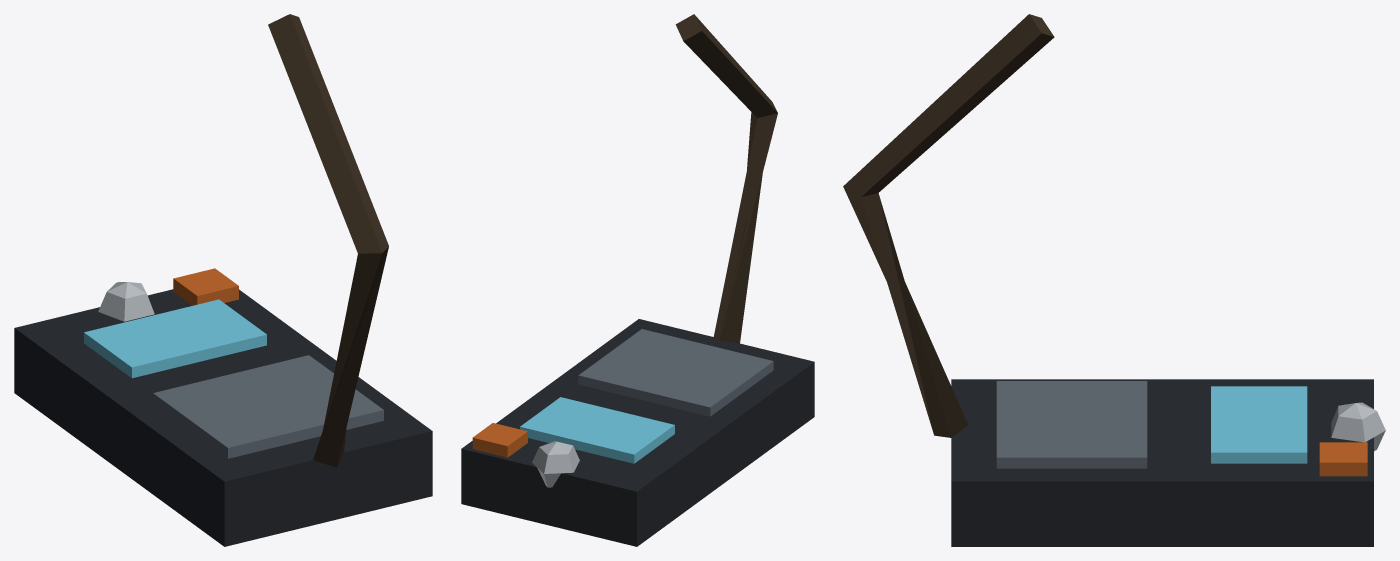
Rendered from personal-translator.glb.
3 renders of one model, left to right at view 1: azimuth 30°, elevation 25°; view 2: azimuth 150°, elevation 25°; view 3: azimuth 270°, elevation 25°, orthographic. The views are drawn at different scales.
Visible parts, largest first — view 1: m; view 2: m; view 3: m.
Part boxes in pixels (box(x1,y1,x2,y2)): m: box(14, 14, 432, 546); m: box(461, 14, 814, 546); m: box(843, 14, 1385, 546).
Bounding box in the file's own units: 0.0334 × 0.0735 × 0.075.
